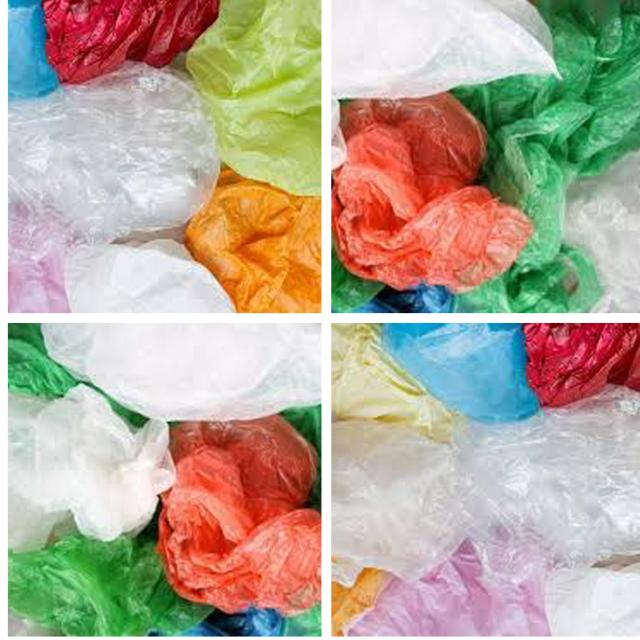plastik: (453, 1, 640, 312), (471, 387, 640, 635), (8, 64, 219, 258), (333, 94, 533, 290), (158, 416, 321, 613), (8, 385, 175, 551), (43, 323, 321, 421), (187, 0, 321, 196), (332, 420, 471, 584), (332, 0, 557, 99), (8, 528, 212, 636), (185, 168, 321, 313), (349, 541, 551, 636), (384, 323, 539, 423), (43, 0, 219, 83), (332, 324, 452, 442), (65, 239, 234, 313), (564, 150, 640, 313), (524, 323, 640, 408), (8, 323, 79, 400), (8, 0, 58, 99)
